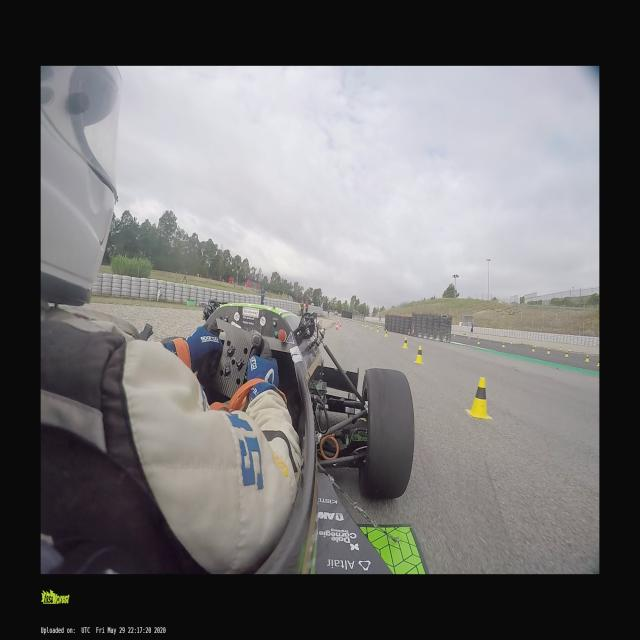orange_cone: (335, 324, 339, 331), (339, 322, 341, 327)
yellow_cone: (464, 378, 492, 418), (414, 346, 424, 364), (402, 338, 408, 348), (384, 330, 388, 338), (476, 338, 481, 344), (585, 355, 589, 361), (564, 352, 568, 358), (546, 348, 550, 354), (531, 346, 535, 352), (502, 342, 506, 348), (596, 358, 598, 366), (376, 327, 379, 332), (370, 324, 372, 330), (365, 323, 367, 327)
